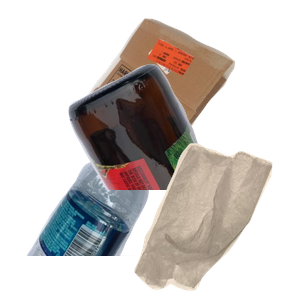cardboard: (67, 16, 295, 196)
glass: (66, 61, 300, 241)
plastic: (24, 120, 182, 300)
trash: (132, 140, 300, 300)
